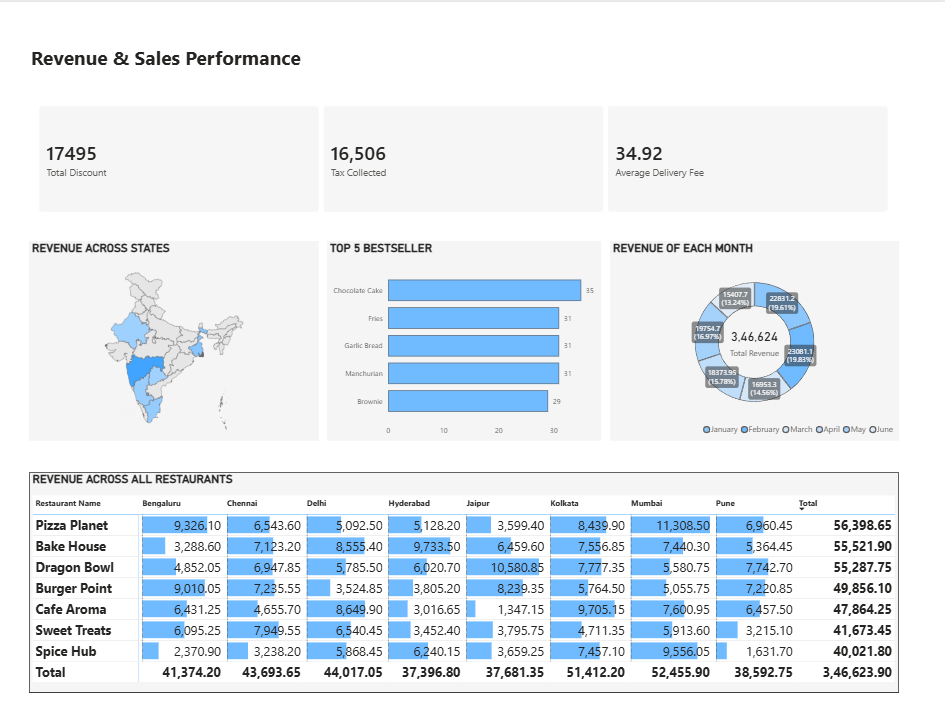

The page's visual inventory and layout, read from the dashboard file:
{"tool":"powerbi","page":{"name":"Revenue & Sales","canvas":[1600,1200],"ordinal":1},"visuals":[{"type":"cardVisual","fields":{"Data":["Sum(Food_Delivery_Orders.Discount)","Sum(Food_Delivery_Orders.Tax)","Avg(Food_Delivery_Orders.Delivery_Fee)"]},"box":[66,156,1450,210],"z":0},{"type":"shapeMap","title":"REVENUE ACROSS STATES","fields":{"Value":["Food_Delivery_Orders.Total Revenue"],"Category":["Food_Delivery_Orders.State"]},"box":[66.7,398.3,483.3,333.3],"z":1000},{"type":"barChart","title":"TOP 5 BESTSELLER","fields":{"Category":["Food_Delivery_Orders.Item_Name"],"Y":["Food_Delivery_Orders.Total Orders"]},"box":[563.3,398.3,456.7,333.3],"z":2000},{"type":"donutChart","title":"REVENUE OF EACH MONTH","fields":{"Y":["Food_Delivery_Orders.Total Revenue"],"Category":["Food_Delivery_Orders.Order_Date.Variation.Date Hierarchy.Month"]},"box":[1035,398.3,481.7,333.3],"z":3000},{"type":"pivotTable","title":"REVENUE ACROSS ALL RESTAURANTS","fields":{"Rows":["Food_Delivery_Orders.Restaurant_Name"],"Columns":["Food_Delivery_Orders.Customer_City"],"Values":["Food_Delivery_Orders.Total Revenue"]},"box":[66.7,783.3,1450,368.3],"z":4000},{"type":"textbox","box":[65,65,465,56.7],"z":5000},{"type":"card","fields":{"Values":["FOOD DELIVERY ORDERS.Total Revenue"]},"box":[1226.7,530,98.3,70],"z":5001}]}

Visuals, with their boxes in screenshot pixels (x1, y1, x2, y2), scaled from the page's 1600x1200 canvas onto the 945x721 screenshot:
cardVisual - Sum(Food_Delivery_Orders.Discount) x Sum(Food_Delivery_Orders.Tax): 39,94,895,220
"REVENUE ACROSS STATES" shapeMap: 39,239,325,440
"TOP 5 BESTSELLER" barChart: 333,239,602,440
"REVENUE OF EACH MONTH" donutChart: 611,239,896,440
"REVENUE ACROSS ALL RESTAURANTS" pivotTable: 39,471,896,692
textbox: 38,39,313,73
card - FOOD DELIVERY ORDERS.Total Revenue: 725,318,783,360
